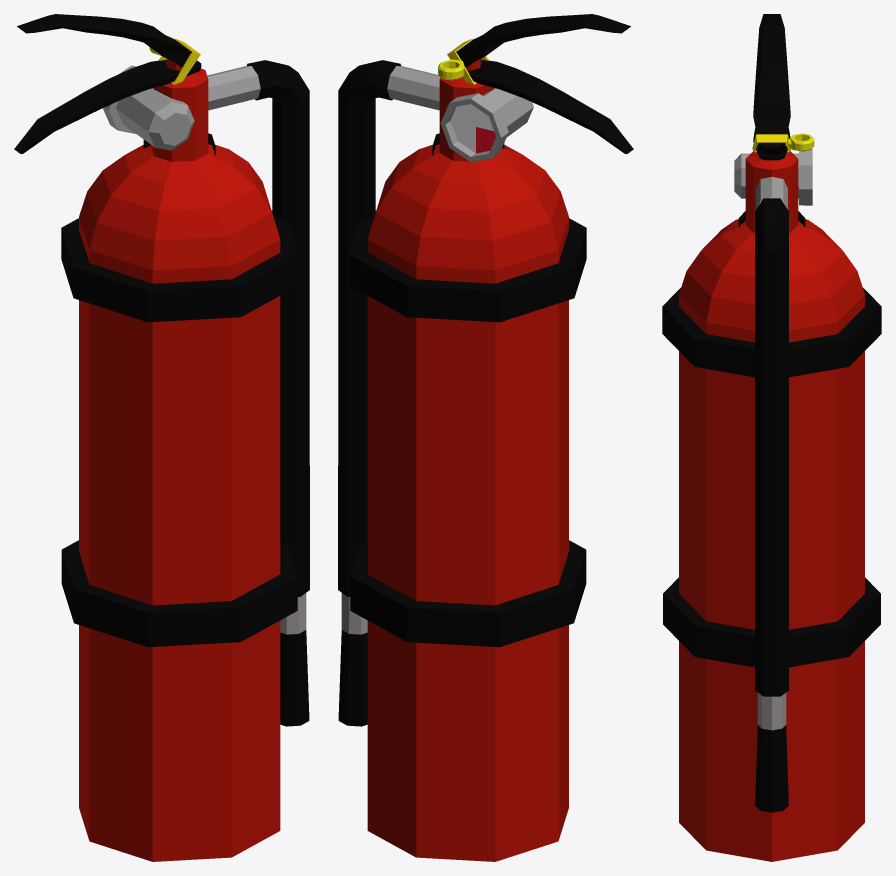
Rendered from inactive_extinguisher_shortNose_Red.fbx.
The picture shows the model from 3 angles, left to right: view 1: azimuth 30°, elevation 25°; view 2: azimuth 150°, elevation 25°; view 3: azimuth 270°, elevation 25°; orthographic projection. The views are drawn at different scales.
Parts seen in each view (by area): view 1: Body, Hose, NoseShort, handletop; view 2: Body, Hose, NoseShort, handletop; view 3: Body, Hose, handletop, NoseShort.
Boxes of the visible parts, x1=… form: Body: x1=14, y1=59, x2=297, y2=861; Hose: x1=246, y1=60, x2=309, y2=596; NoseShort: x1=280, y1=593, x2=309, y2=726; handletop: x1=17, y1=14, x2=196, y2=69; Body: x1=350, y1=59, x2=633, y2=861; Hose: x1=338, y1=60, x2=401, y2=596; NoseShort: x1=338, y1=593, x2=367, y2=726; handletop: x1=456, y1=14, x2=630, y2=67; Body: x1=662, y1=128, x2=881, y2=861; Hose: x1=755, y1=198, x2=788, y2=696; handletop: x1=753, y1=14, x2=790, y2=154; NoseShort: x1=755, y1=692, x2=788, y2=812.
Bounding box in the file's own units: 159 × 436 × 116.
